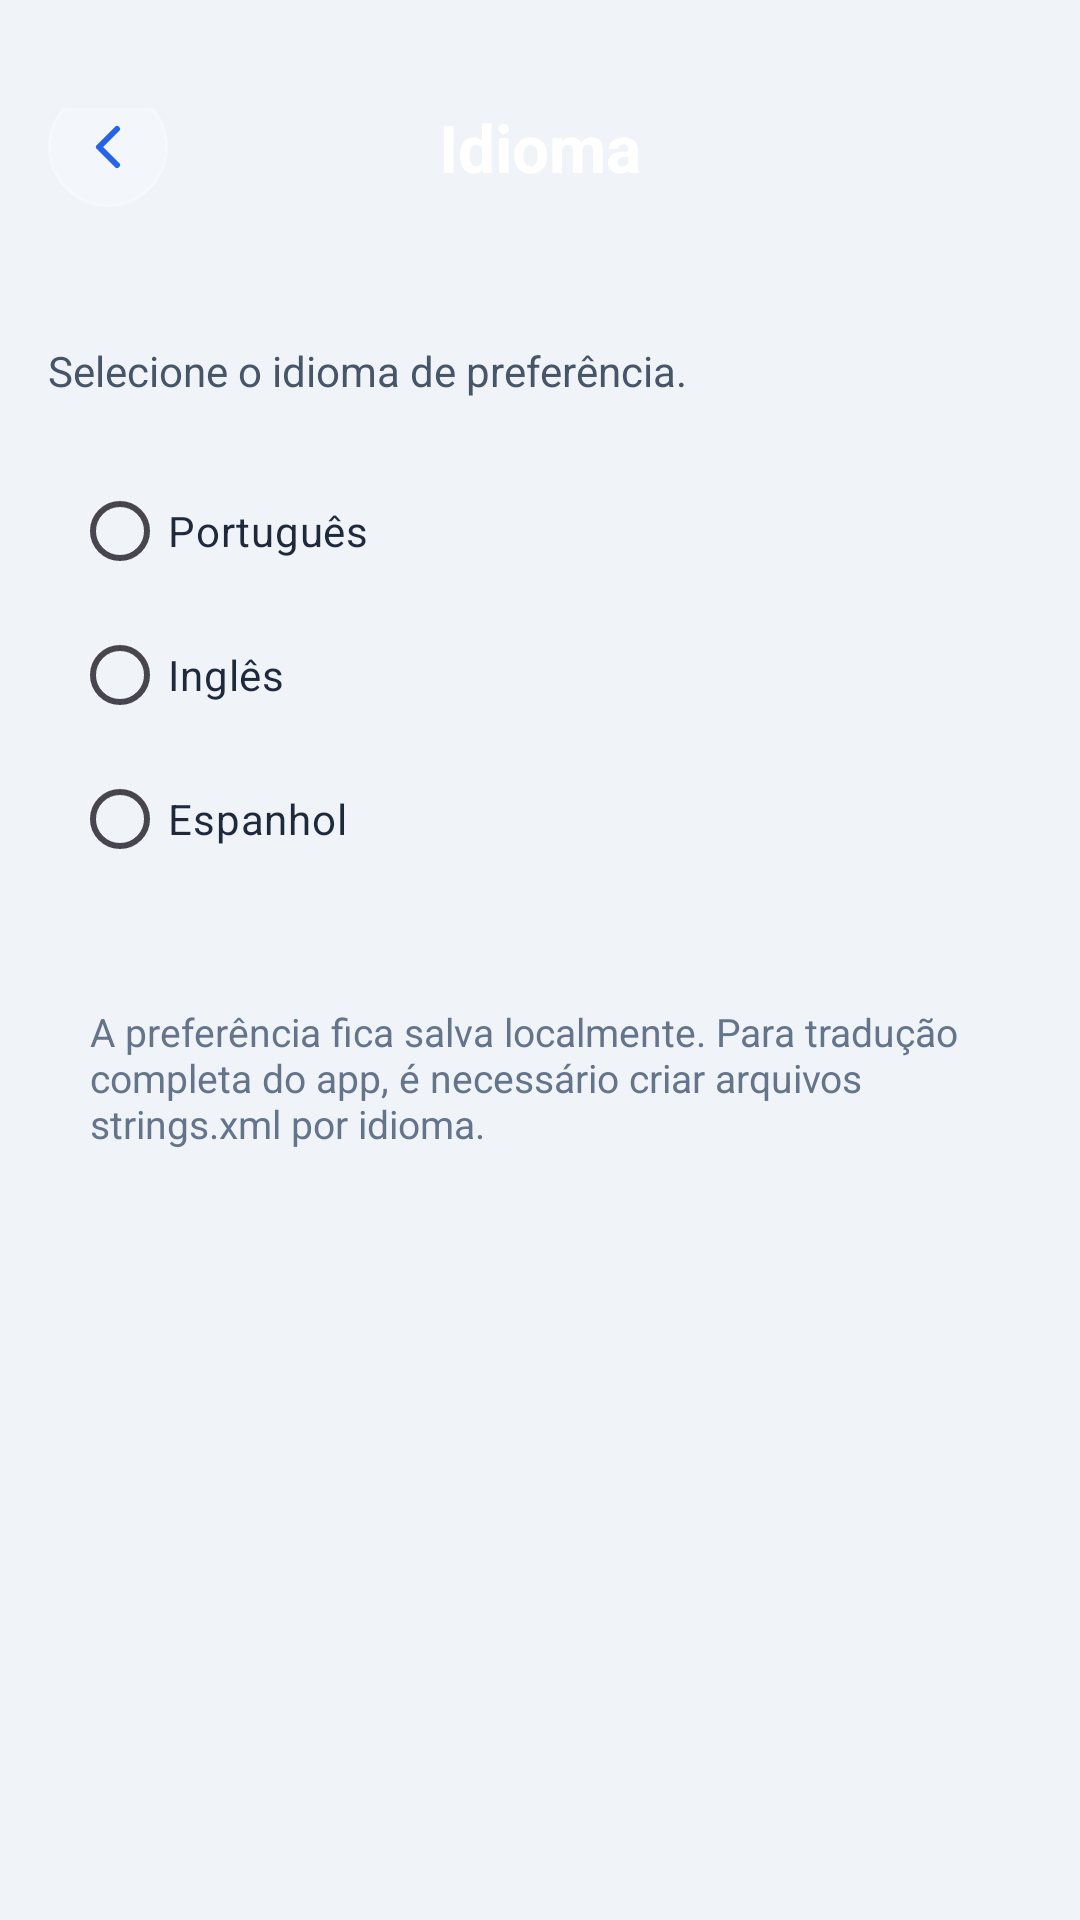

Screen size 1080x1920. Icon name, then its center in pixels as (x=x, y=y):
arrow back: (x=108, y=147)
